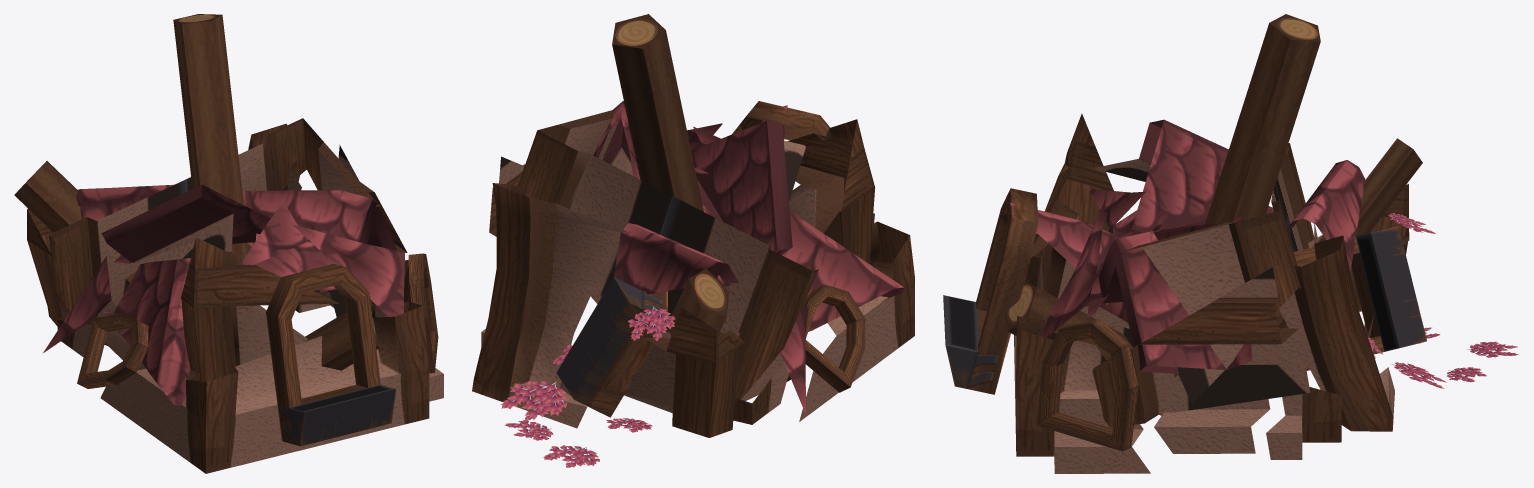
Rendered from House5Pile.fbx.
The picture shows the model from 3 angles, left to right: view 1: azimuth 30°, elevation 25°; view 2: azimuth 150°, elevation 25°; view 3: azimuth 270°, elevation 25°; orthographic projection. The views are drawn at different scales.
Parts seen in each view (by area): view 1: Pile2; view 2: Pile2; view 3: Pile2.
Boxes of the visible parts, x1,y1,x2,y2 form: Pile2: [14, 14, 443, 473]; Pile2: [472, 14, 914, 467]; Pile2: [943, 14, 1518, 473].
Bounding box in the file's own units: 24.73 × 27.12 × 34.98.
